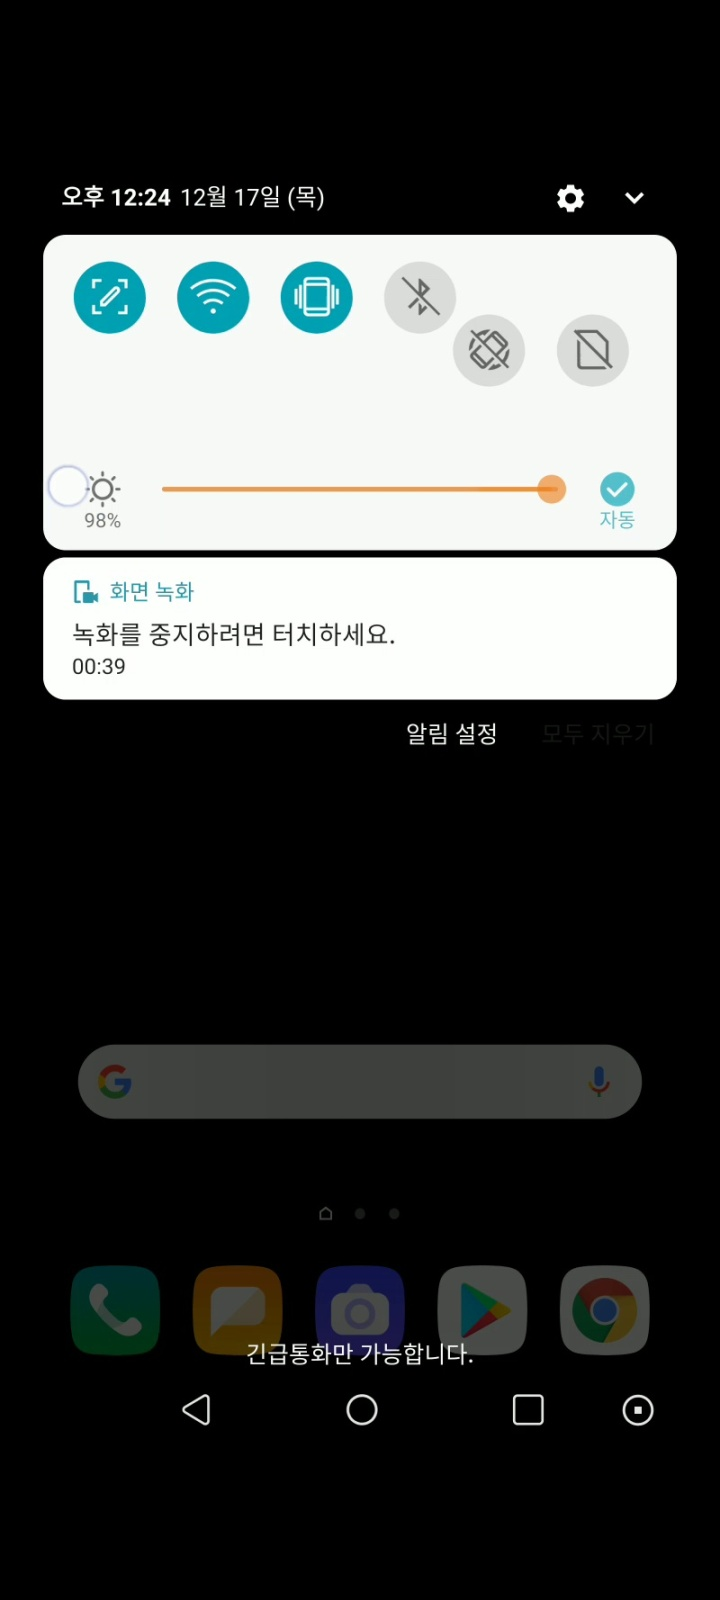Cursor: (45, 465, 90, 510)
